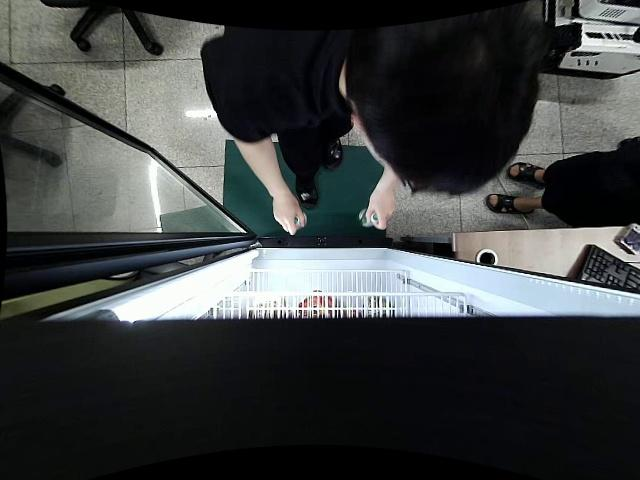00_hand: (272, 199, 306, 237), (365, 191, 396, 231)
18_trevi: (358, 206, 379, 229)
